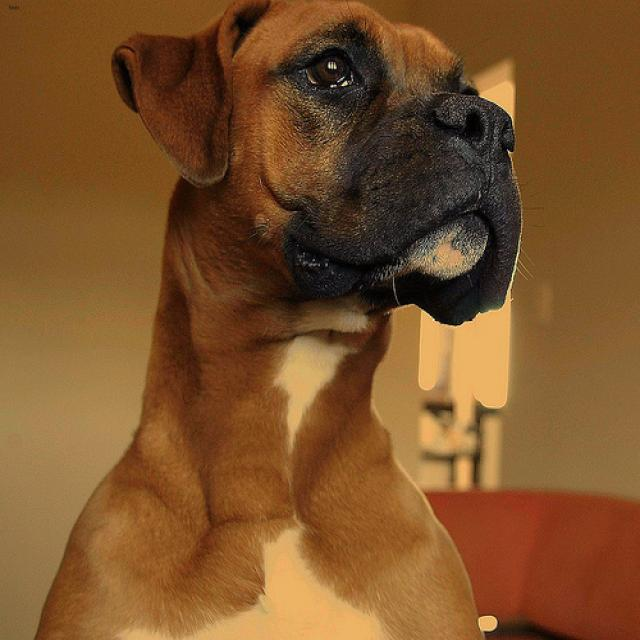dog-boxer: (17, 1, 545, 637)
